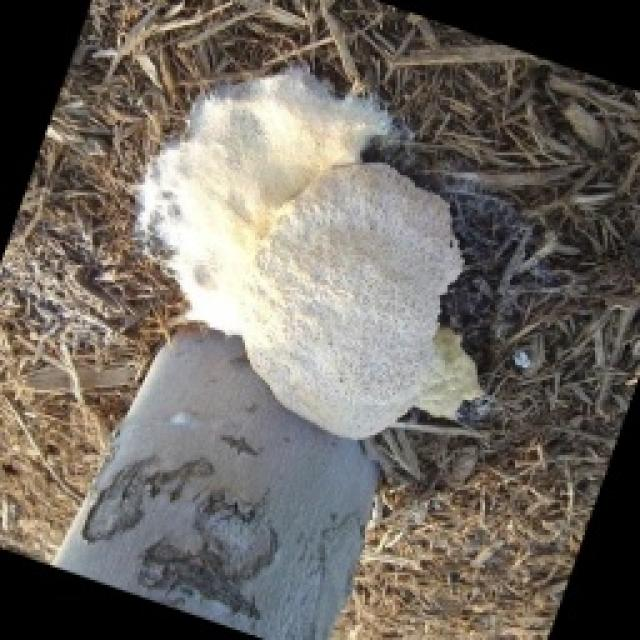Dog_vomit_slime_mold: (133, 92, 500, 428)
